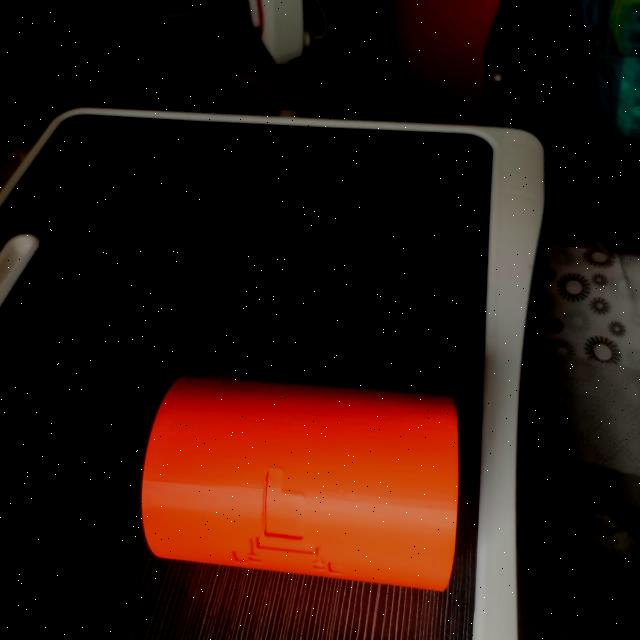Cylinder: (140, 374, 460, 592)
